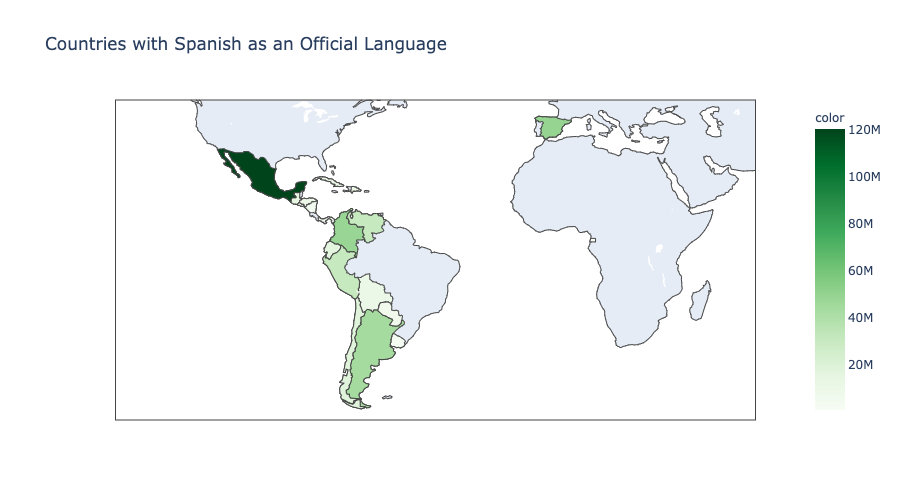

This screenshot's page, from the dashboard's own definition file:
{"tool":"tableau","page":{"name":"Dashboard 2","canvas":[650,860],"ordinal":1},"visuals":[{"type":"worksheet","title":"Sheet 3","mark":"Multipolygon","box":[8,9.8,474,840.3]},{"type":"legend","title":"Sheet 3","param":"[federated.18ai2ps00hkj1114wkhbp0jn7sxn].[none:CONTINENT:nk]","box":[482,9.8,160,253.4]}]}

Visuals, with their boxes on the page's 650x860 design canvas (x1, y1, x2, y2). These are canvas units, not pixel positions in the 900x500 screenshot, which may show the page scaled, cropped or inside an application window:
"Sheet 3" worksheet (Multipolygon marks): [8, 10, 482, 850]
"Sheet 3" legend: [482, 10, 642, 263]
